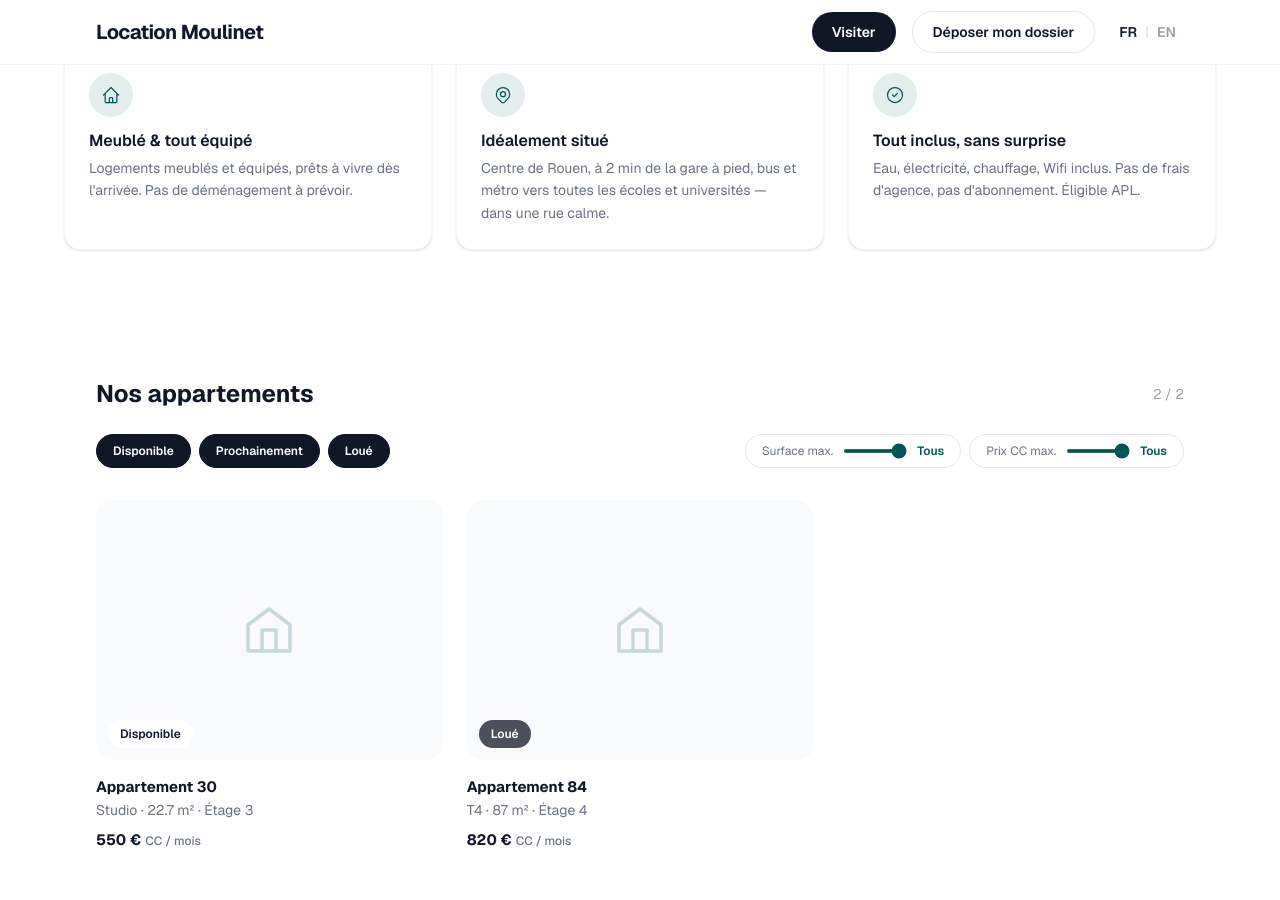
HomeClient — filtres › affiche un message quand aucun appartement ne correspond aux filtres
(page scrolled)
Click the button "Disponible": (143, 451) [96,434,191,468]
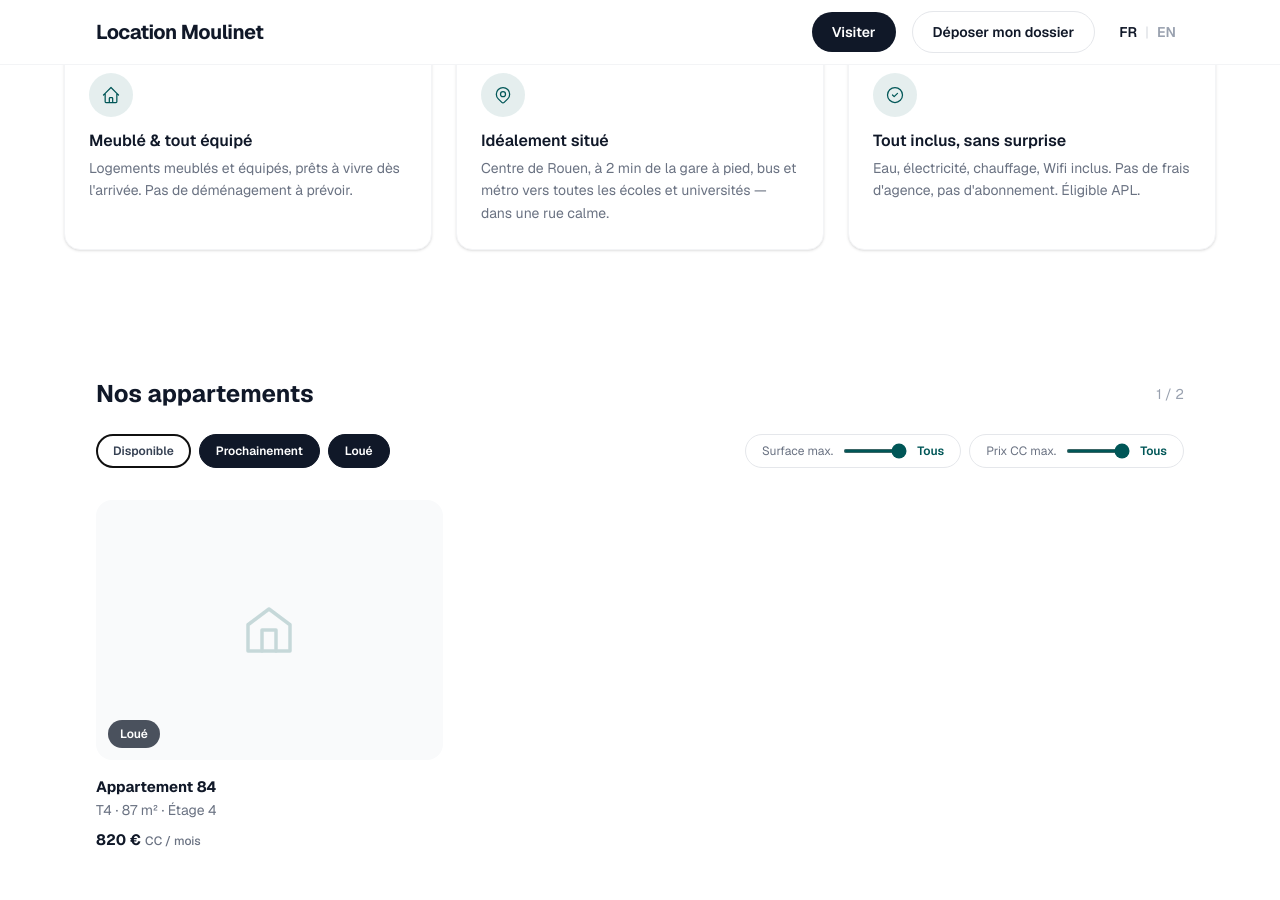
Click the button "Loué": (359, 451) [328,434,390,468]
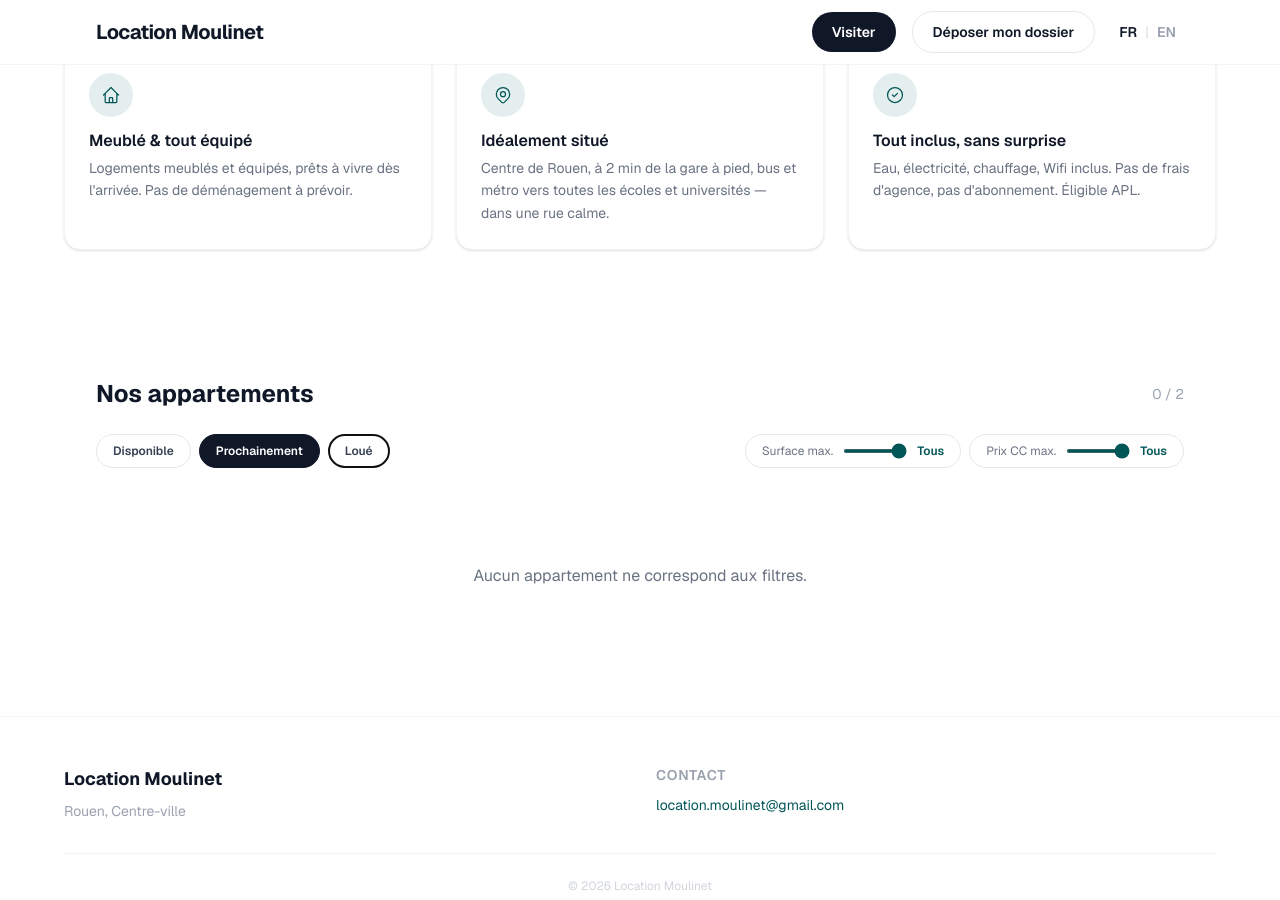
Now the text "Aucun appartement ne correspond aux filtres." is shown, box [474,565,807,586]
